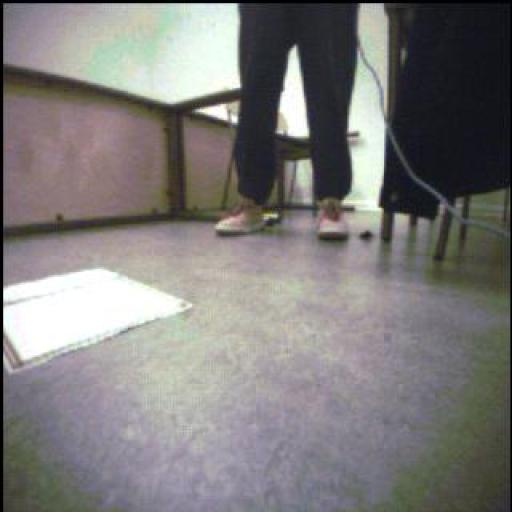Pad: (4, 270, 193, 372)
